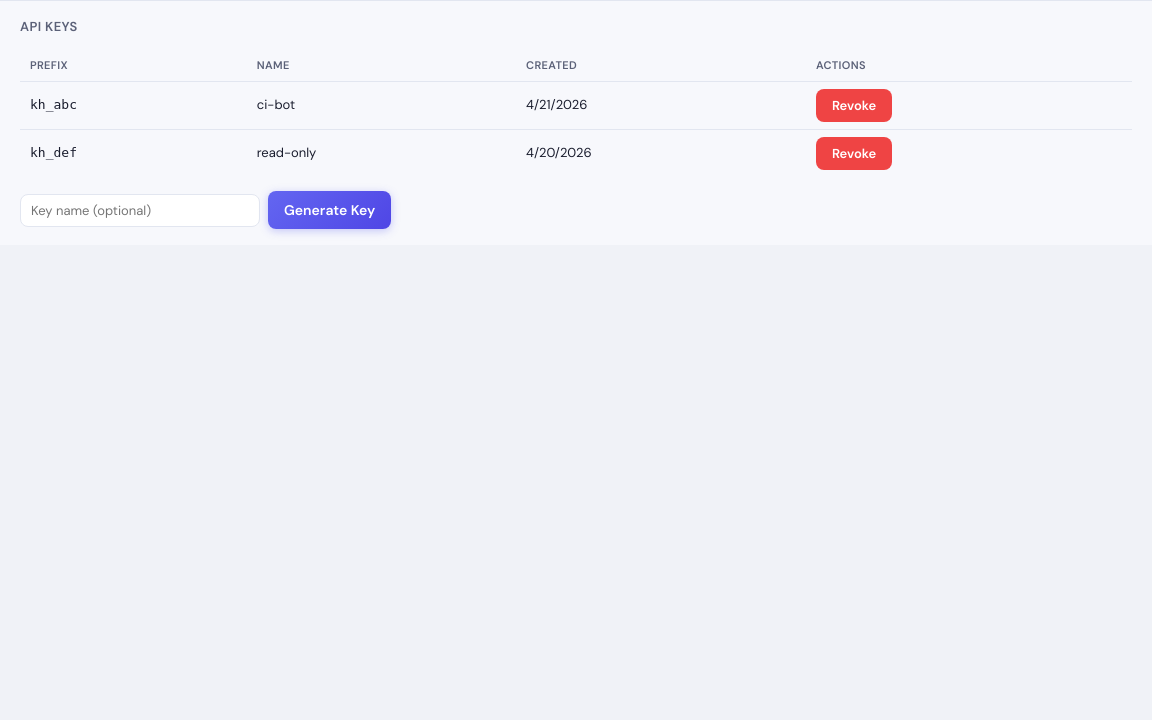
Test: ApiKeyPanel › after generate: new key item appended to list (no full refetch)
The image size is (1152, 720).
Expected: the text "kh_abc" is shown, x1=30 y1=98 x2=77 y2=112
Click the button "Generate Key": (330, 210) x1=268 y1=191 x2=391 y2=229
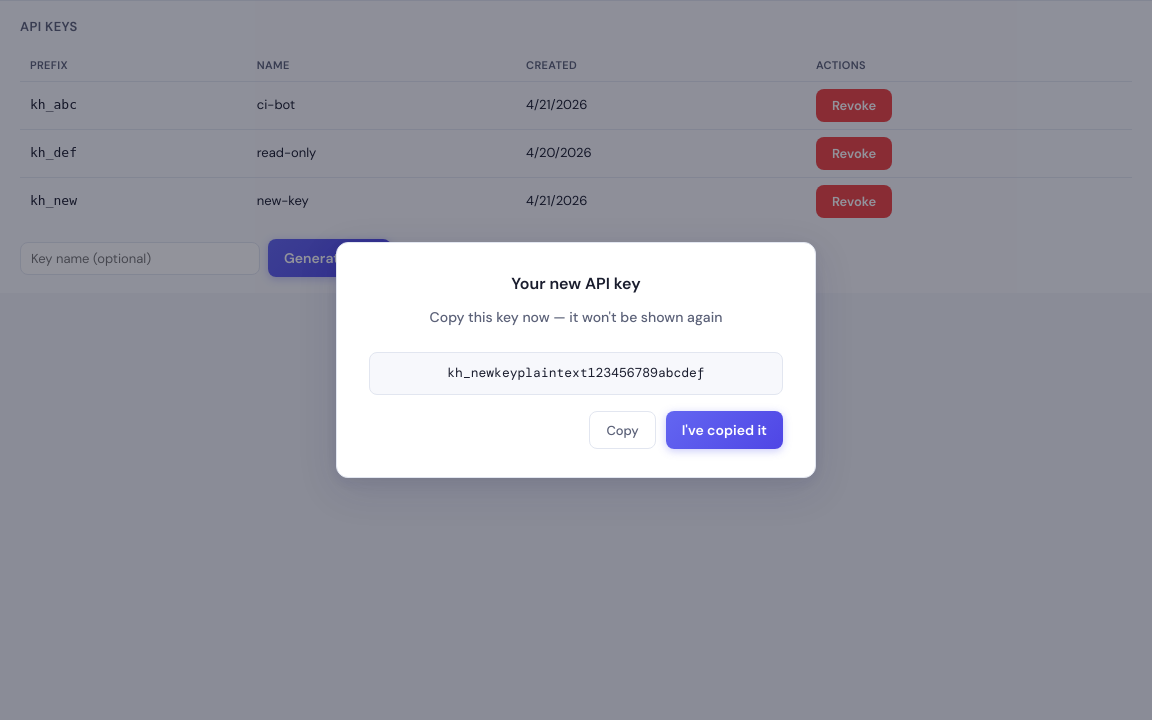
Expected: the text "kh_newkeyplaintext123456789abcdef" is shown, x1=369 y1=352 x2=783 y2=395
Expected: the text "kh_new" is shown, x1=30 y1=194 x2=77 y2=208
